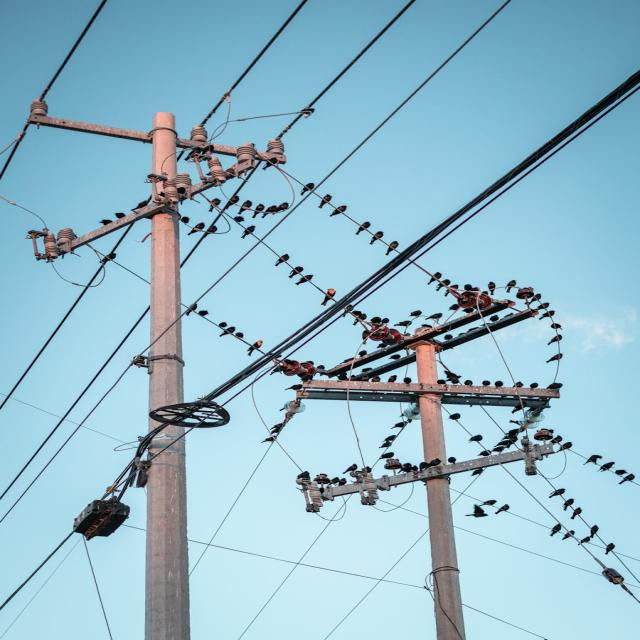transmission tower: (17, 89, 295, 590)
